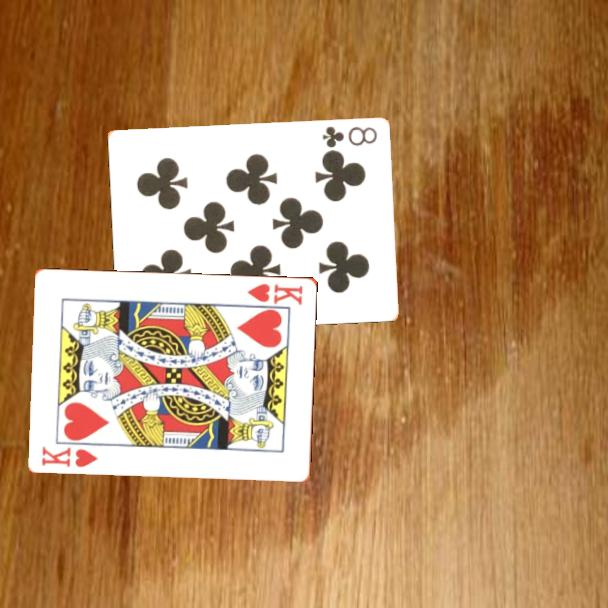c08: (319, 123, 380, 151)
h13: (244, 280, 306, 307), (39, 443, 101, 470)
